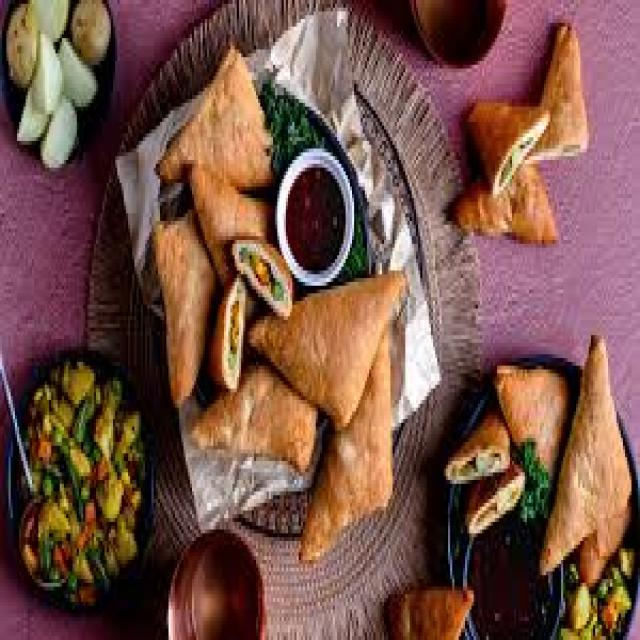SAMOSA: (251, 268, 408, 433), (539, 332, 630, 572), (301, 329, 390, 561), (157, 45, 272, 187), (194, 368, 322, 473), (156, 223, 213, 412), (189, 173, 271, 300), (502, 365, 571, 488)
